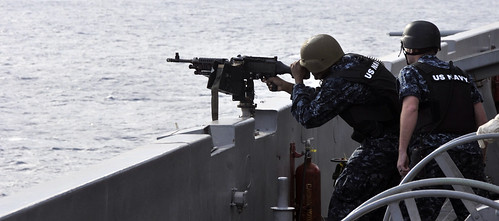policeman: (288, 47, 400, 212), (389, 27, 480, 197)
sea: (5, 3, 413, 181)
weapon: (169, 47, 297, 106)
